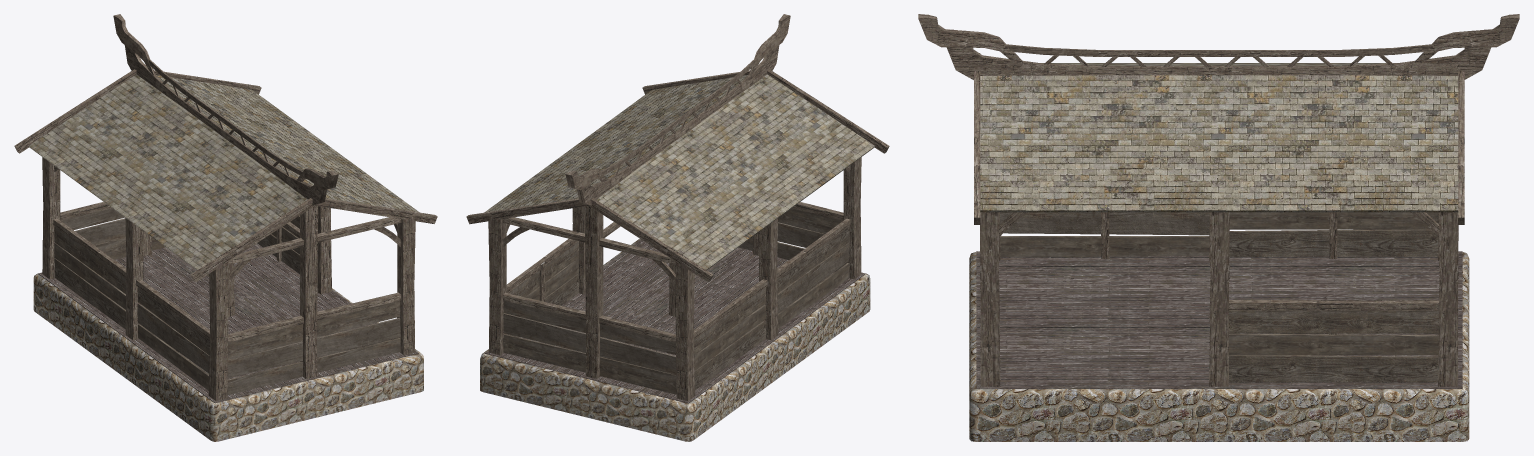
File: mw_type_2_barn_01.FBX
3 views of the same model, side by side, from view 1: azimuth 30°, elevation 25°; view 2: azimuth 150°, elevation 25°; view 3: azimuth 270°, elevation 25° (orthographic). The views are drawn at different scales.
Visible parts, largest first — view 1: mw_barn_01_wood, mw_barn_01_roof, mw_barn_01_bottom; view 2: mw_barn_01_wood, mw_barn_01_roof, mw_barn_01_bottom; view 3: mw_barn_01_wood, mw_barn_01_roof, mw_barn_01_bottom.
Boxes of the visible parts, x1,y1,x2,y2 form: mw_barn_01_wood: [14, 14, 437, 403]; mw_barn_01_roof: [29, 74, 419, 270]; mw_barn_01_bottom: [33, 273, 423, 441]; mw_barn_01_wood: [466, 14, 889, 403]; mw_barn_01_roof: [484, 74, 874, 270]; mw_barn_01_bottom: [480, 238, 870, 441]; mw_barn_01_wood: [918, 14, 1519, 388]; mw_barn_01_roof: [980, 63, 1458, 212]; mw_barn_01_bottom: [969, 252, 1469, 441].
Size of the model in its own units: 689 by 688 by 1064.
